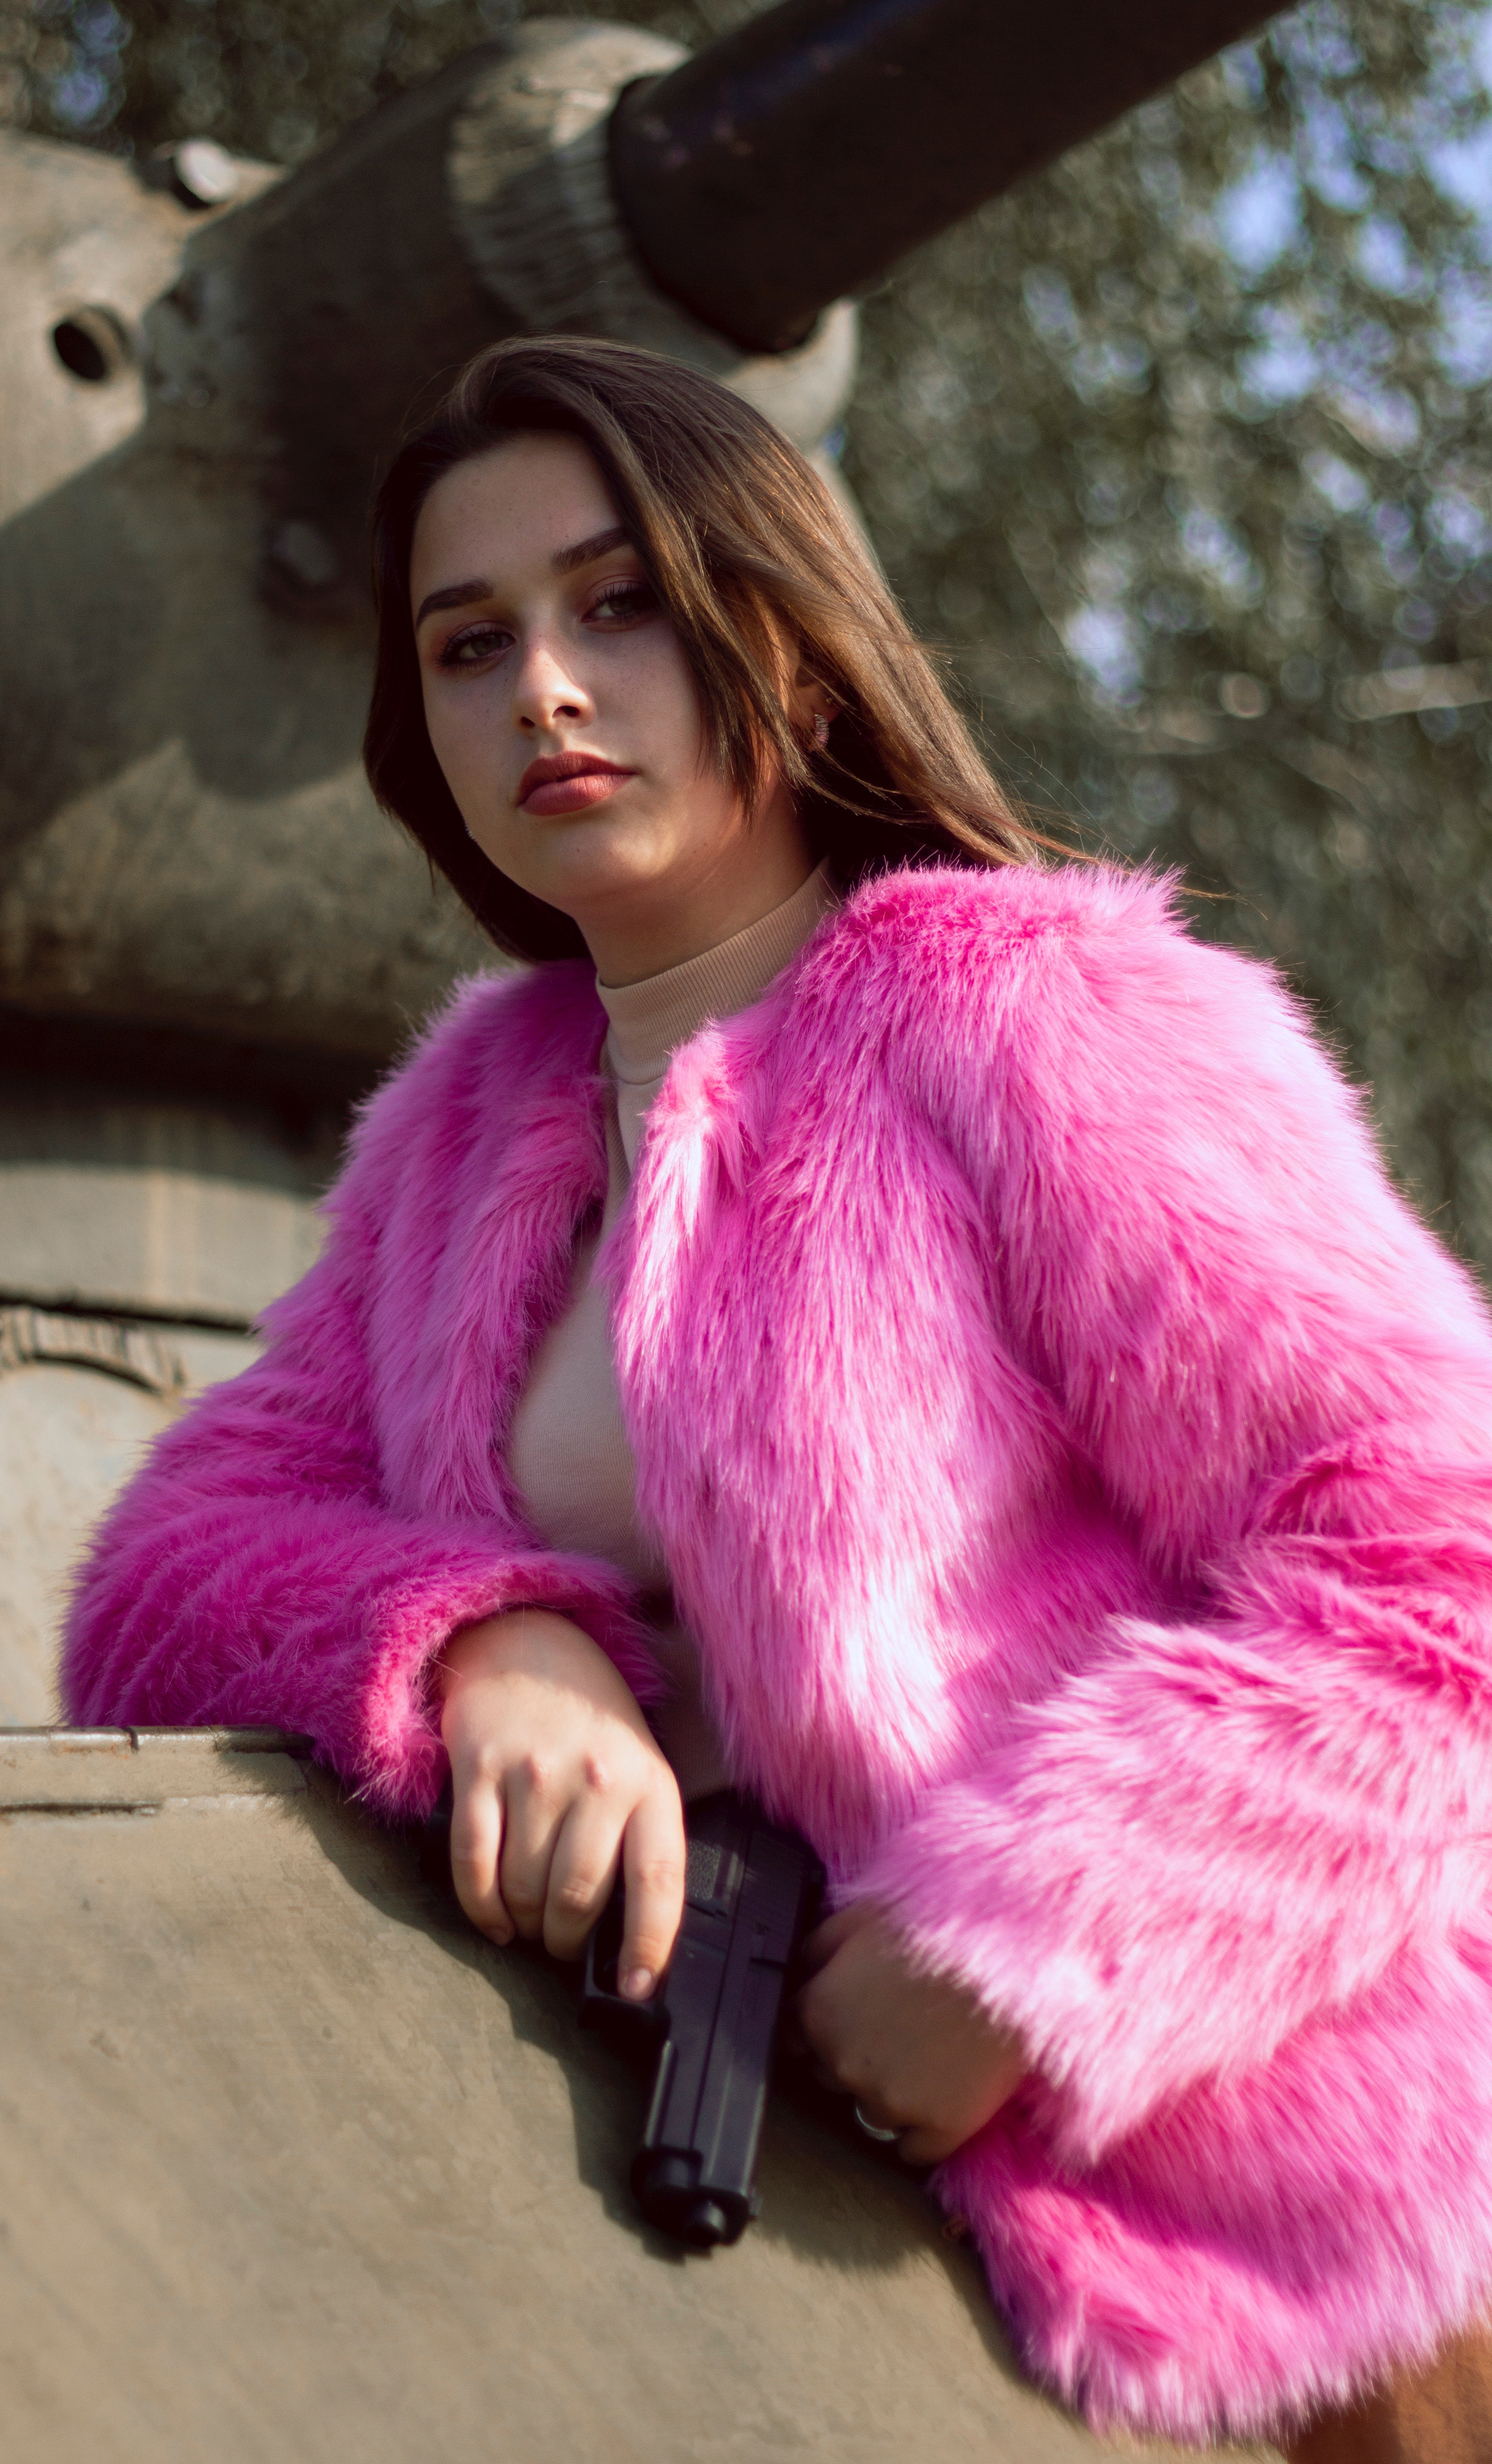gun: (585, 1773, 842, 2289)
person: (54, 311, 1492, 2295)
